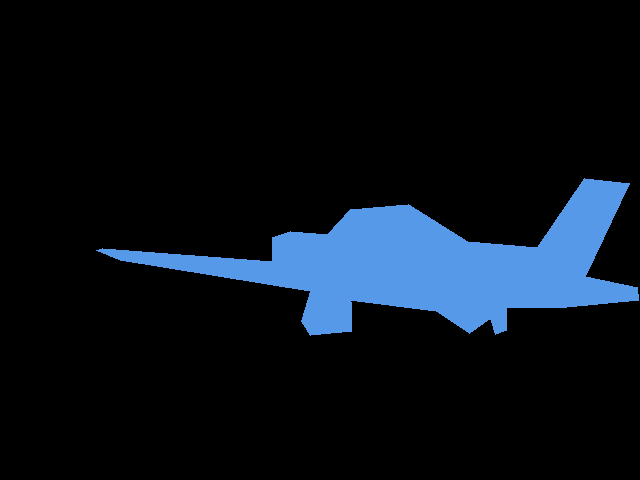Airplane: (96, 178, 639, 335)
